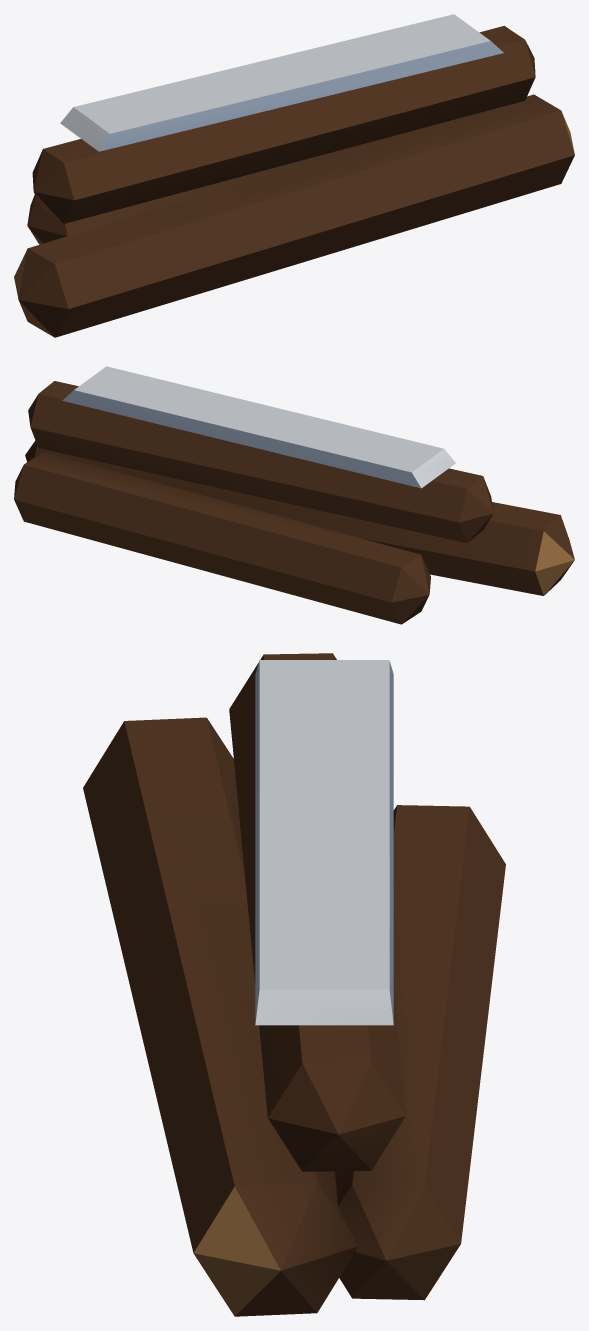
The model's file is Alpine_Logs.glb.
3 views of the same model, one above another, from view 1: azimuth 30°, elevation 25°; view 2: azimuth 150°, elevation 25°; view 3: azimuth 270°, elevation 25° (orthographic). The views are drawn at different scales.
Parts seen in each view (by area): view 1: Alpine_Logs; view 2: Alpine_Logs; view 3: Alpine_Logs.
Part boxes in pixels (left/top/right/bottom): Alpine_Logs: left=14, top=14, right=574, bottom=337; Alpine_Logs: left=14, top=366, right=574, bottom=624; Alpine_Logs: left=83, top=653, right=505, bottom=1316.
Bounding box in the file's own units: 3.47 × 0.8678 × 1.22.
